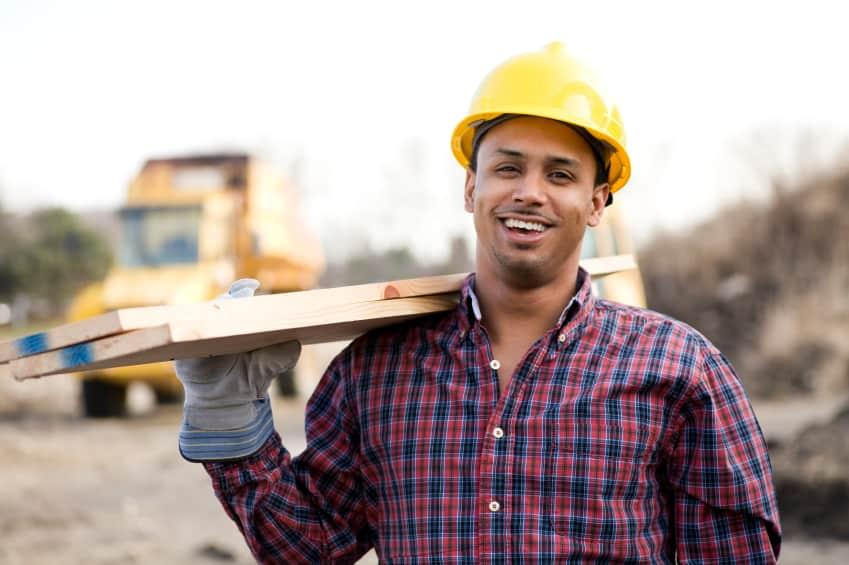helmet: (452, 41, 635, 185)
